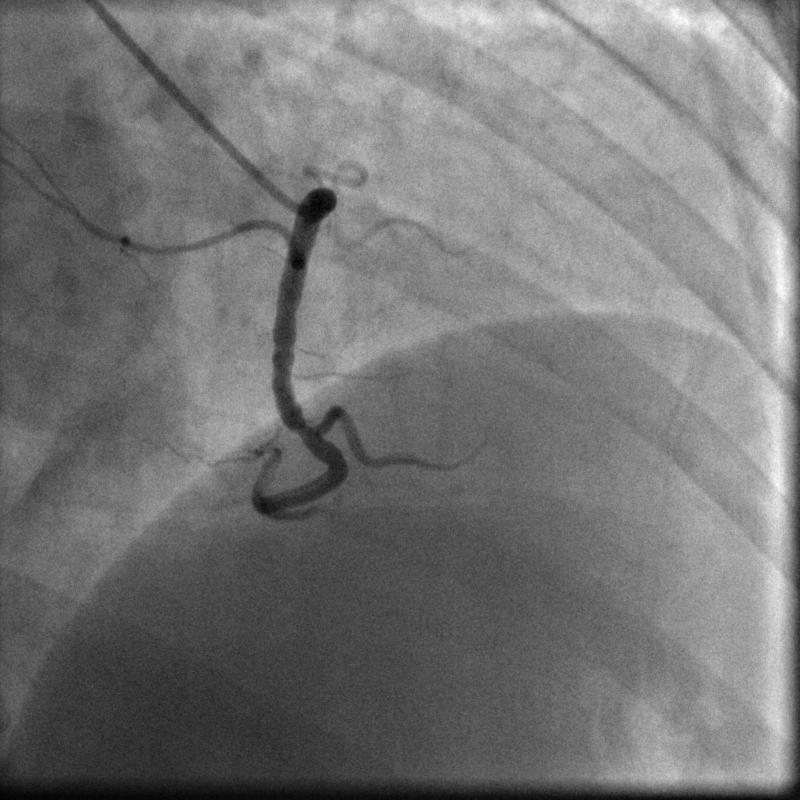Stenosis: (278, 416, 328, 445)
